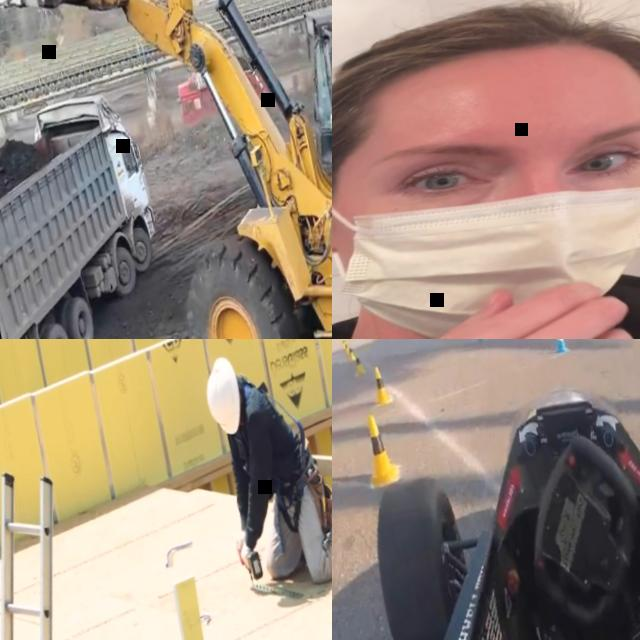Hardhat: (199, 357, 248, 441)
Mask: (332, 119, 640, 339)
NO-Hardhat: (332, 0, 640, 148)
NO-Safety Vest: (235, 379, 303, 500)
Person: (332, 0, 640, 339), (198, 339, 332, 599)
Safety Cone: (360, 411, 400, 489), (368, 365, 396, 414), (548, 339, 572, 358), (353, 352, 367, 378), (348, 345, 357, 363), (473, 339, 488, 346)
vehicle: (0, 0, 332, 339), (332, 342, 640, 640), (0, 84, 184, 339), (172, 52, 271, 126)
